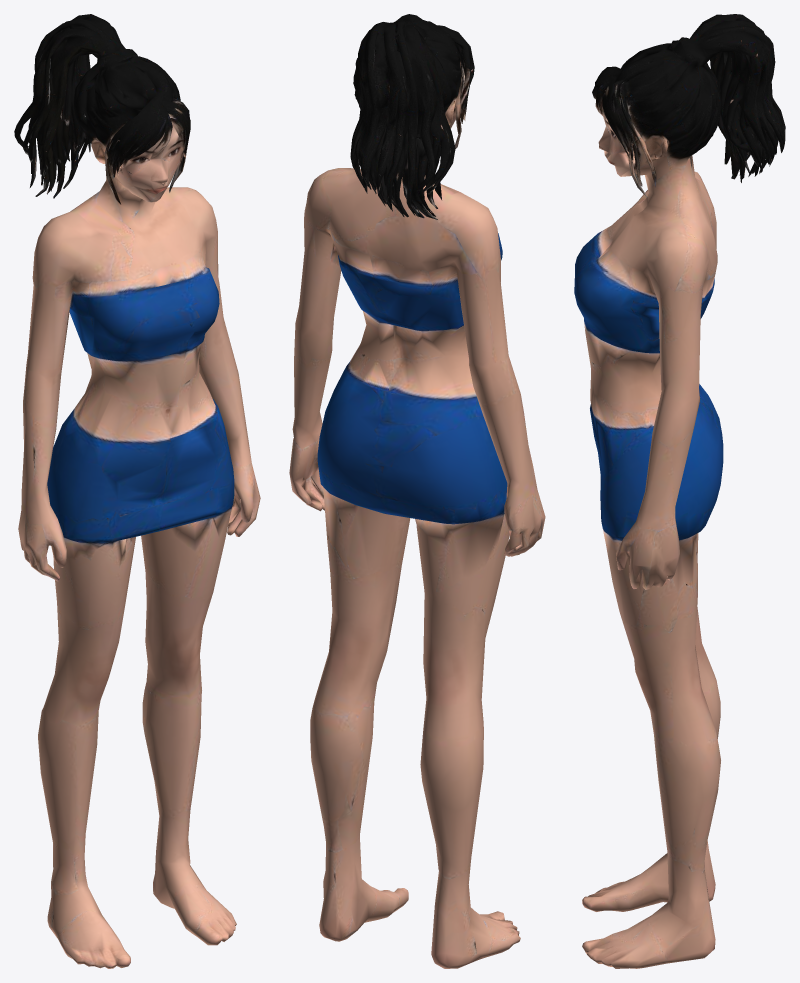
File: body_1k.glb
The picture shows the model from 3 angles, left to right: view 1: azimuth 30°, elevation 25°; view 2: azimuth 150°, elevation 25°; view 3: azimuth 270°, elevation 25°; orthographic projection. The views are drawn at different scales.
Size of the model in its own units: 0.5143 by 1.9 by 0.4008.
Materials: 1 (1 with a texture image).
